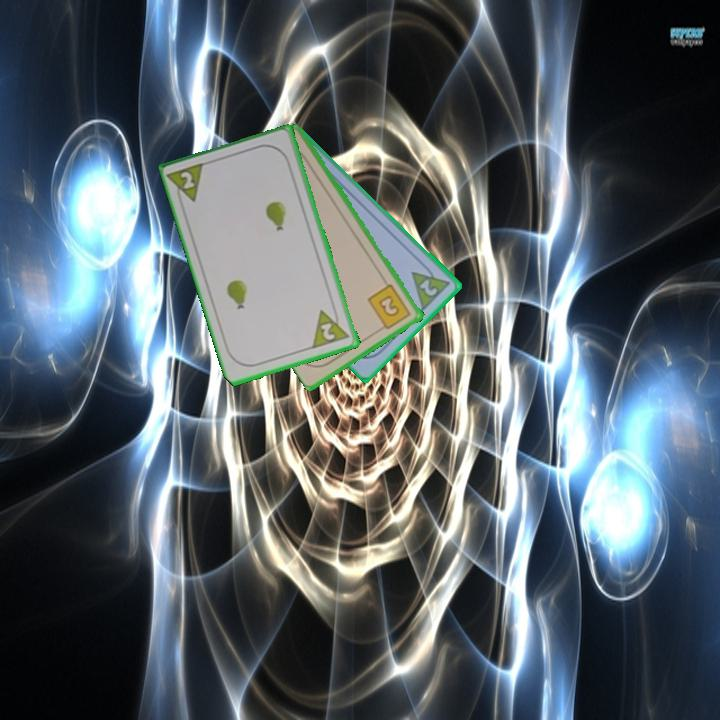2b: (364, 281, 414, 334)
2p: (408, 259, 454, 313), (165, 159, 209, 209), (309, 303, 353, 352)
